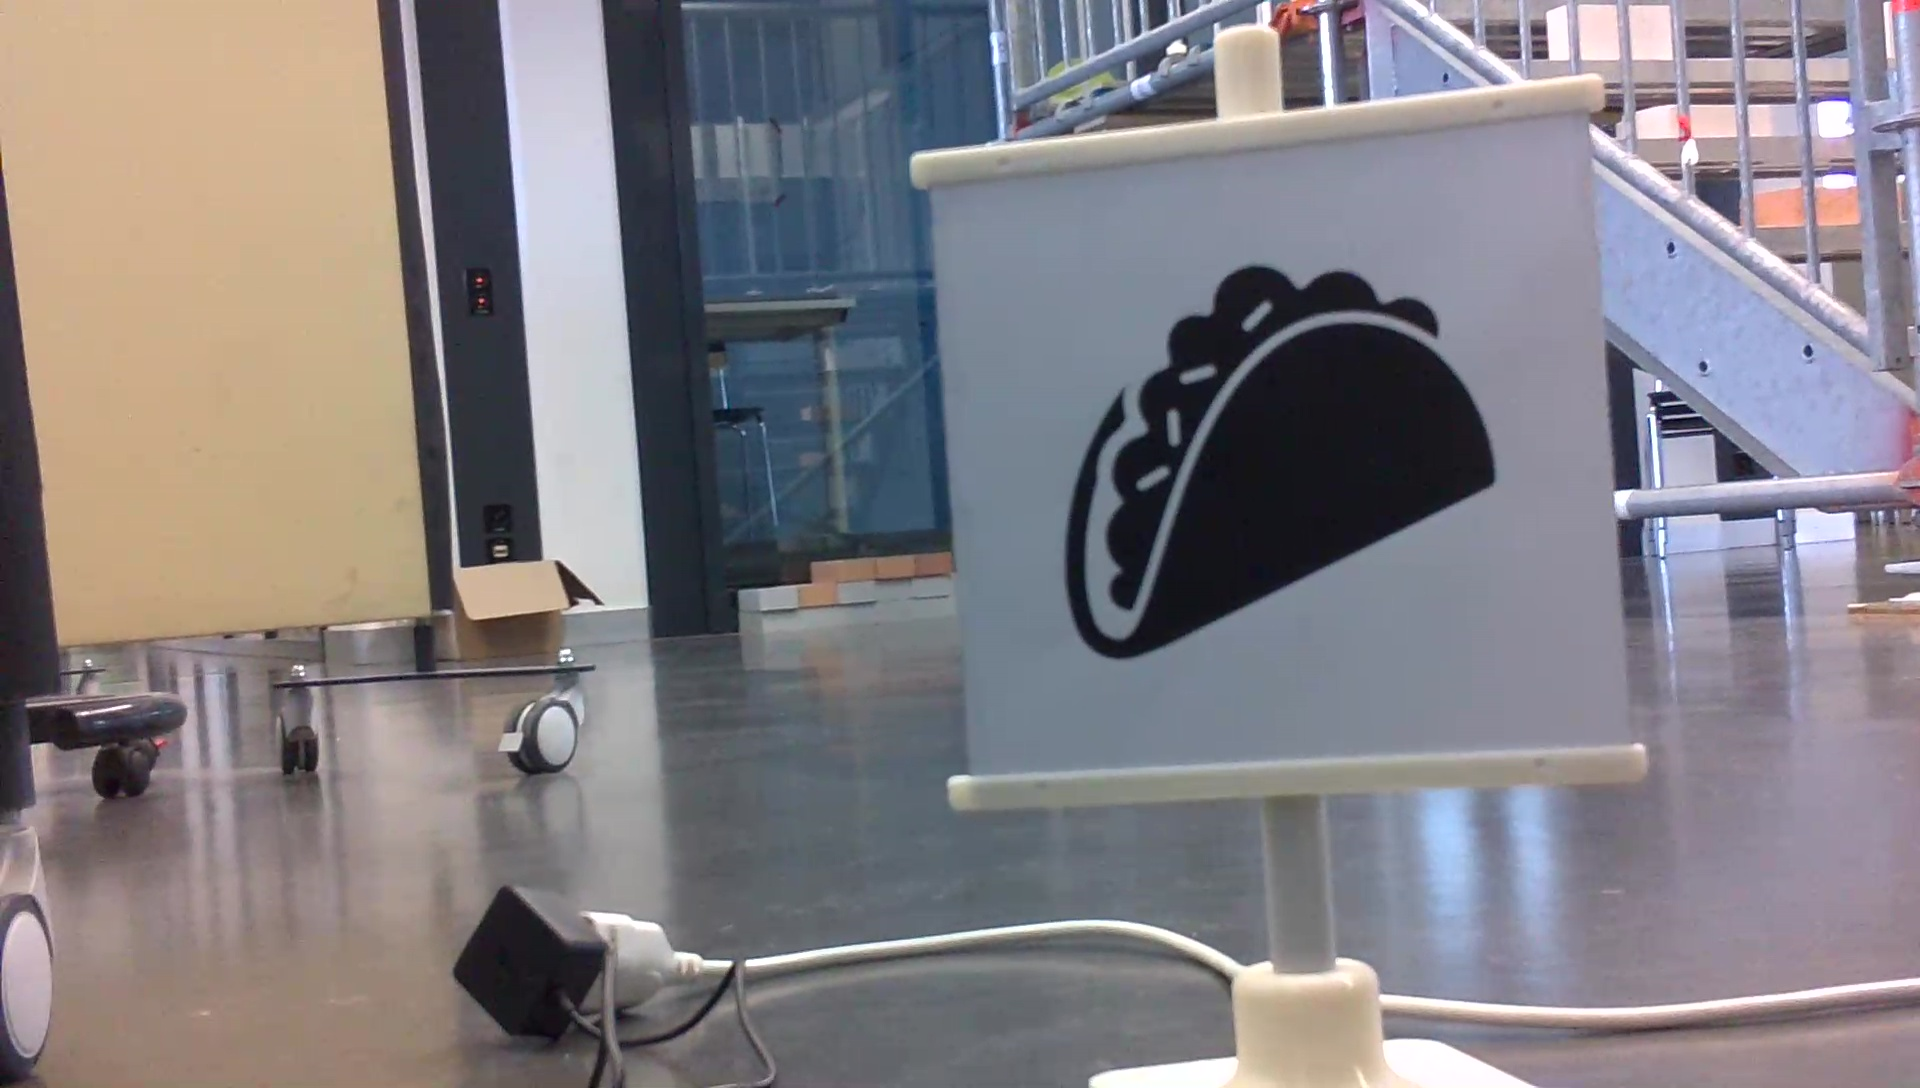taco: (1052, 253, 1507, 663)
